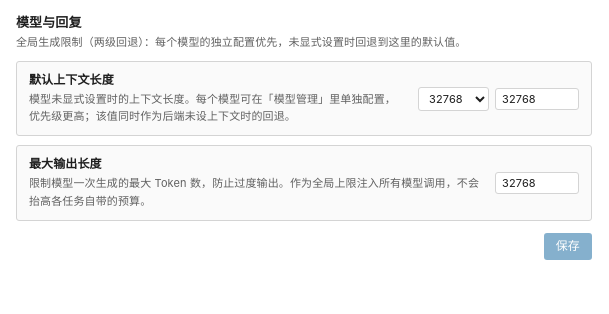
Test: GenLimitsPanel › 修改后保存：稀疏 patch 提交 + 成功提示
Step 1. Type "4096" into the 2nd field → coordinates (537, 183), box x1=495 y1=172 x2=579 y2=194
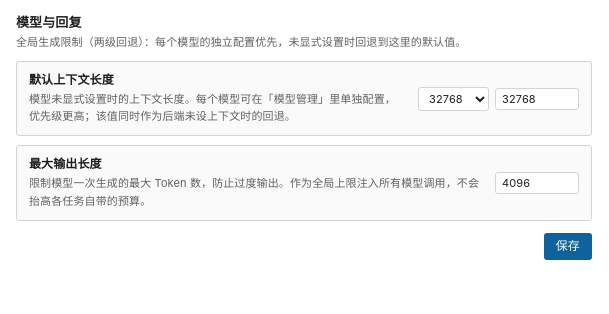
Step 2. Type "65536" into the 1st field → coordinates (537, 99), box x1=495 y1=88 x2=579 y2=110
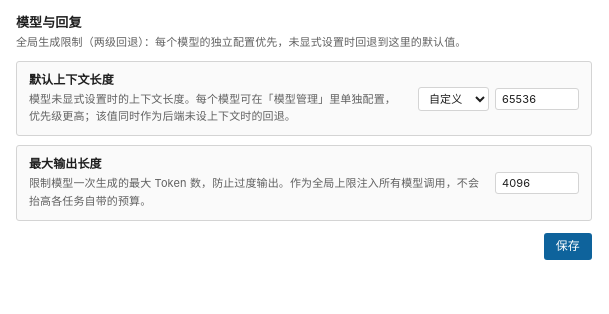
Step 3. Click the button "保存" → coordinates (568, 246), box x1=544 y1=232 x2=592 y2=260
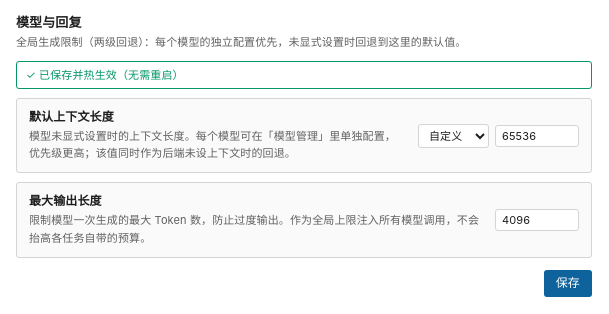
Expected: the text "✓ 已保存并热生效（无需重启）" is shown, x1=16 y1=61 x2=592 y2=89
